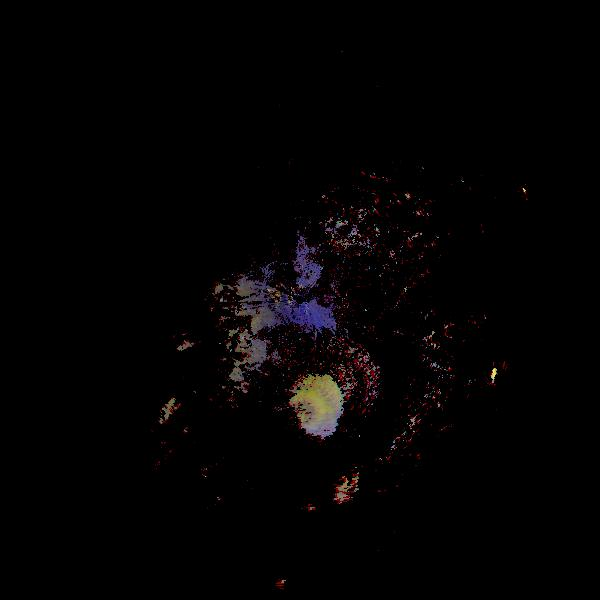roost: (278, 384, 332, 438), (323, 464, 362, 503)
